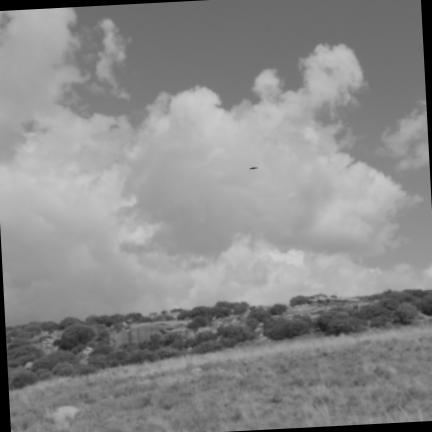Shahed: (249, 167, 258, 170)
